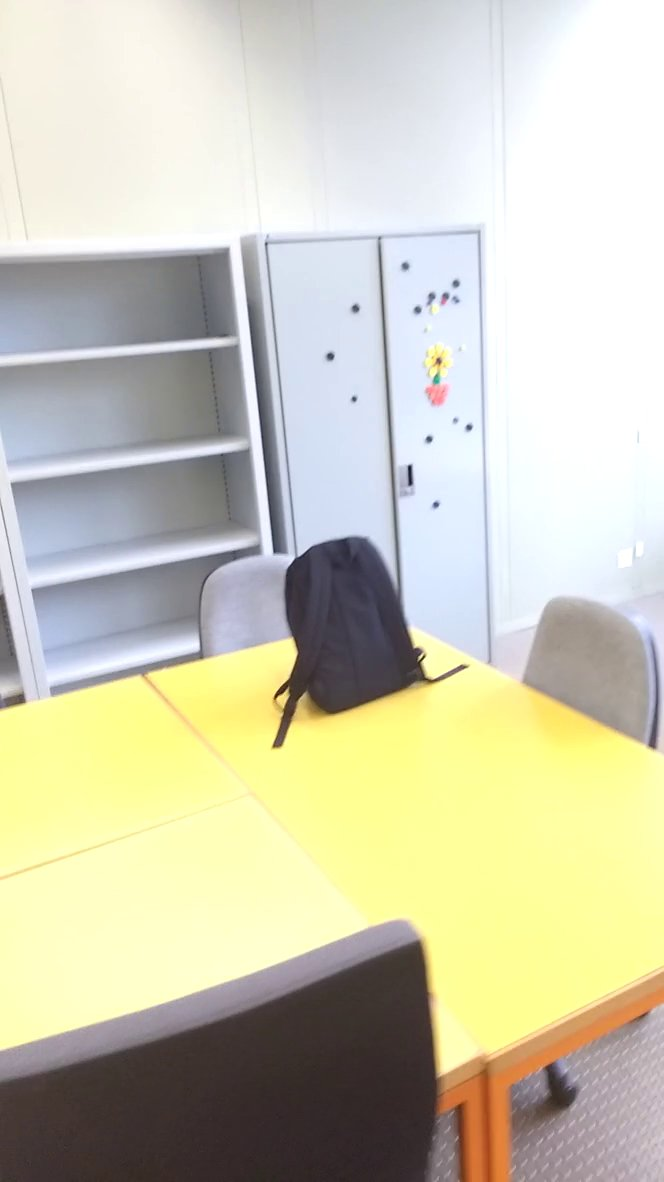bag: (271, 530, 479, 758)
chair: (502, 590, 664, 770), (176, 542, 324, 668)
